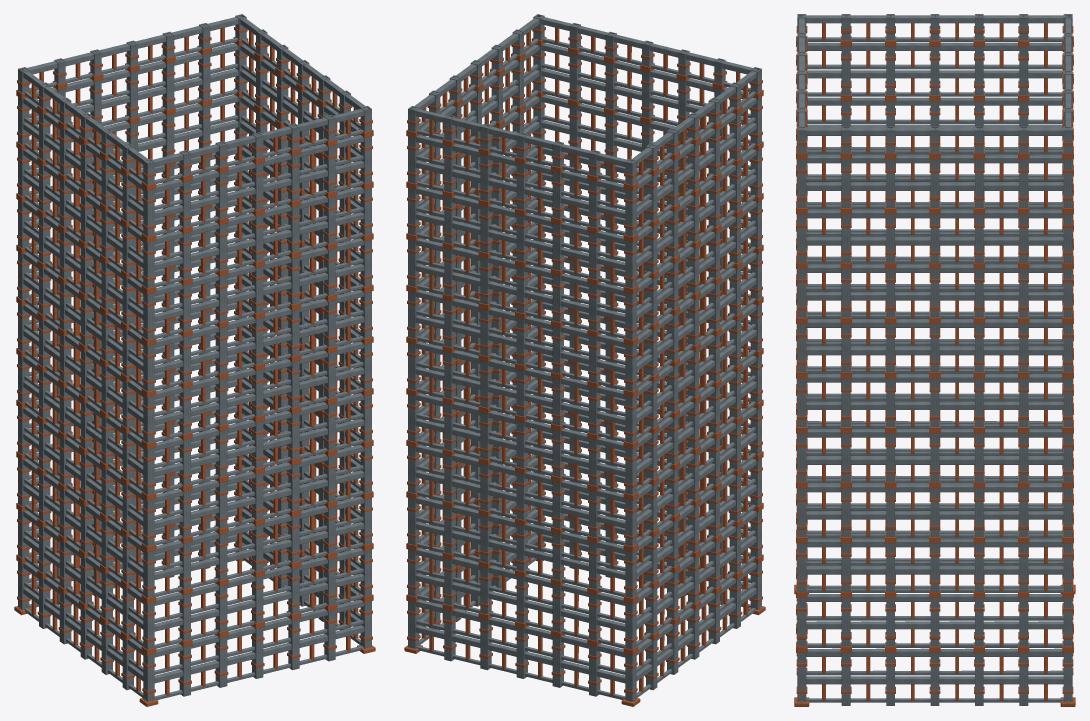
3 renders of one model, left to right at view 1: azimuth 30°, elevation 25°; view 2: azimuth 150°, elevation 25°; view 3: azimuth 270°, elevation 25°, orthographic. The views are drawn at different scales.
Parts seen in each view (by area): view 1: no part large enough to name; view 2: no part large enough to name; view 3: Tier 0 side 1 post 1, Tier 0 side 1 post 5, Tier 0 side 1 post 3, Tier 4 side 1 post 0, Tier 4 side 1 post 1, Tier 4 side 1 post 5, Tier 4 side 2 post 0, Tier 4 side 1 post 3.
Boxes of the visible parts, x1,y1,x2,y2 form: Tier 0 side 1 post 1: [841, 653, 850, 705]; Tier 0 side 1 post 5: [1019, 653, 1028, 705]; Tier 0 side 1 post 3: [930, 653, 939, 705]; Tier 4 side 1 post 0: [797, 433, 806, 482]; Tier 4 side 1 post 1: [841, 433, 850, 482]; Tier 4 side 1 post 5: [1019, 433, 1028, 482]; Tier 4 side 2 post 0: [1063, 433, 1072, 482]; Tier 4 side 1 post 3: [930, 433, 939, 482].
Bounding box in the file's own units: 2.85 × 6.44 × 2.85.
2 materials, 2 textured.
